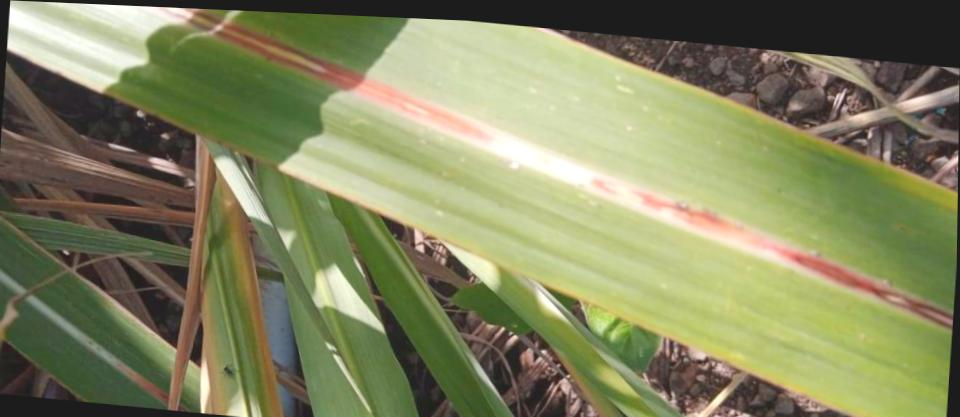RedRot: (588, 176, 953, 330), (152, 7, 498, 143)
